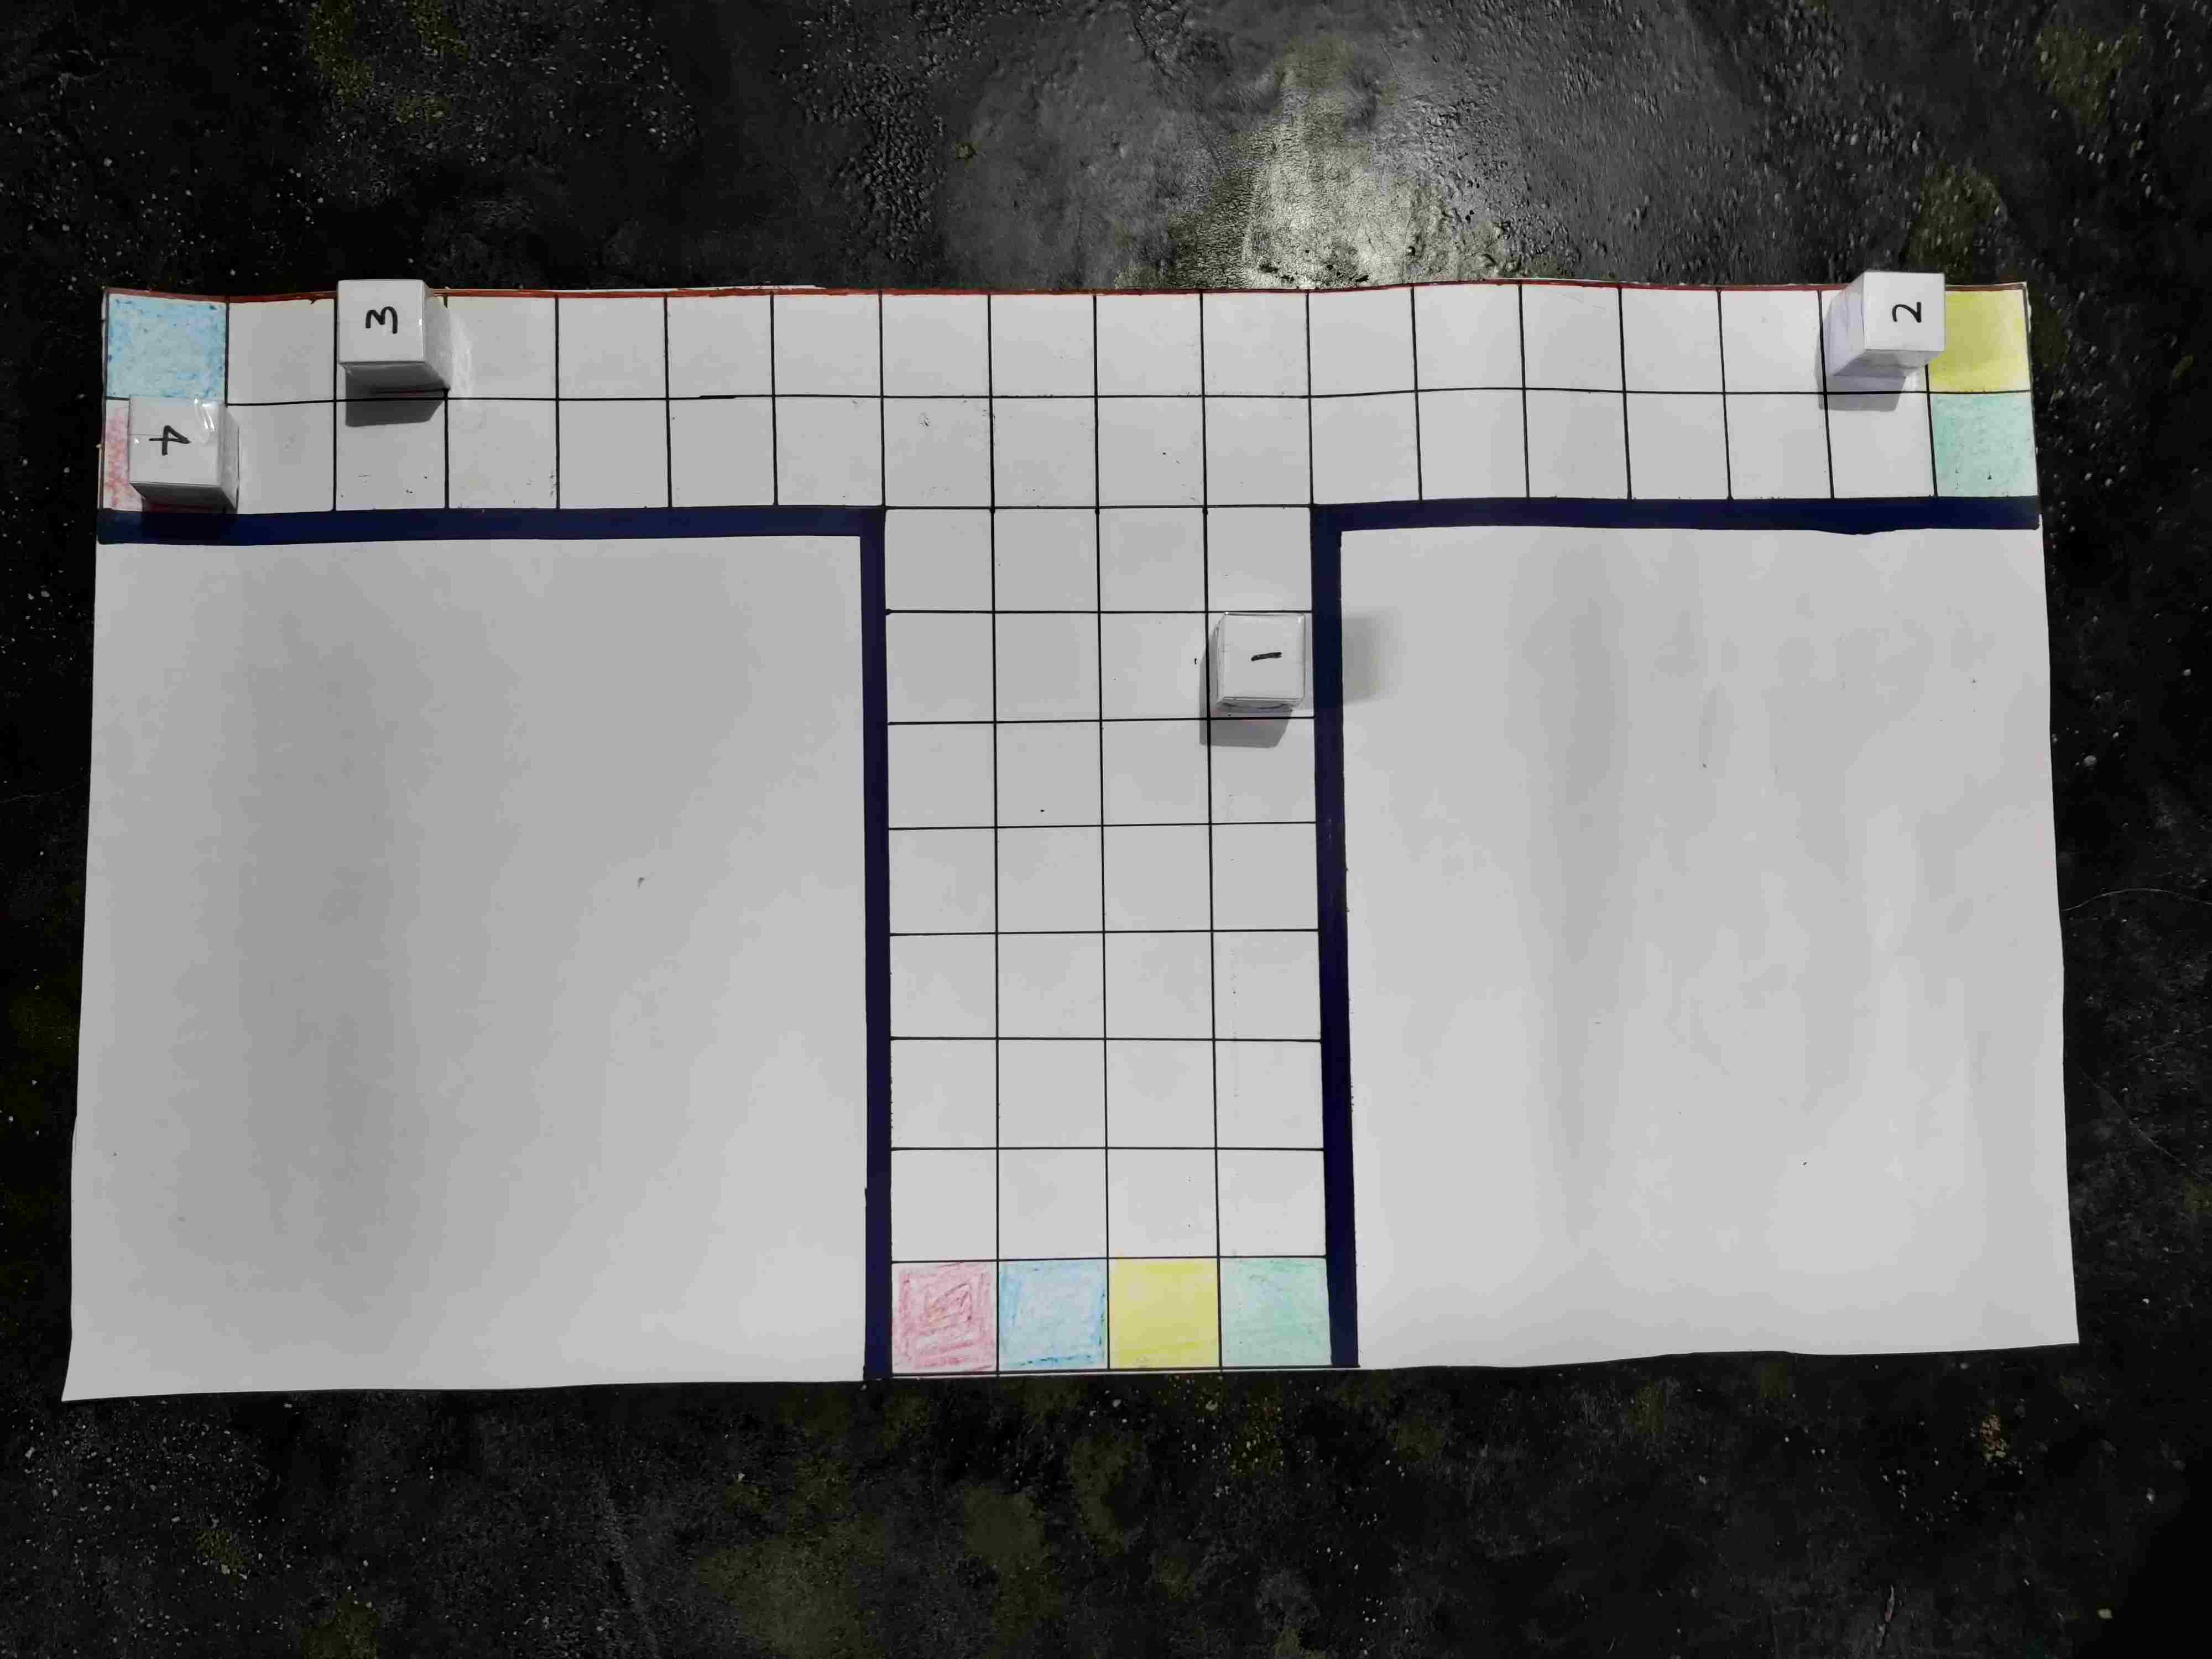arena: (118, 214, 2116, 1328)
bot: (765, 1121, 859, 1208), (880, 1255, 963, 1352), (1676, 1133, 1759, 1222), (1343, 1244, 1423, 1328)
